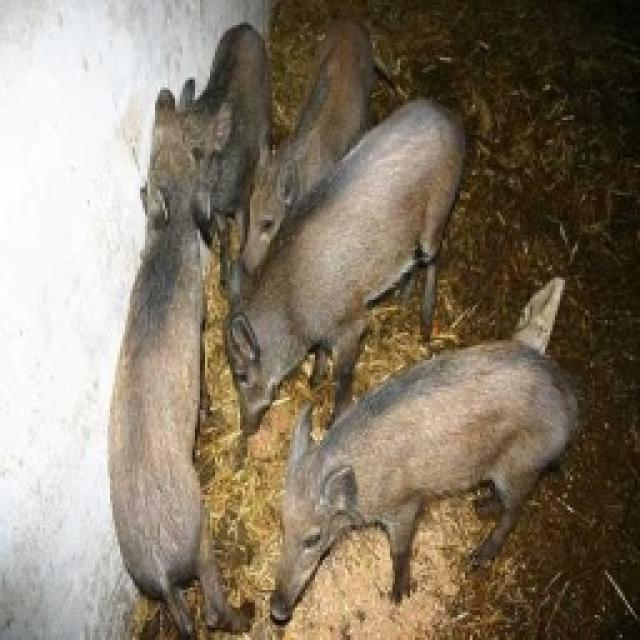pig: (265, 333, 582, 628), (223, 100, 464, 445), (105, 82, 239, 637), (229, 23, 377, 274)
